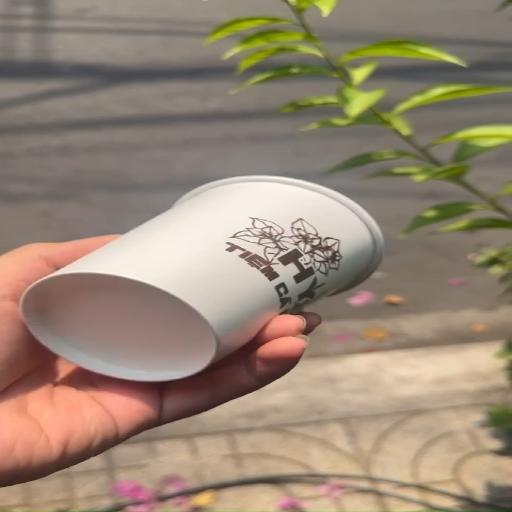Ly_giay: (20, 176, 381, 381)
